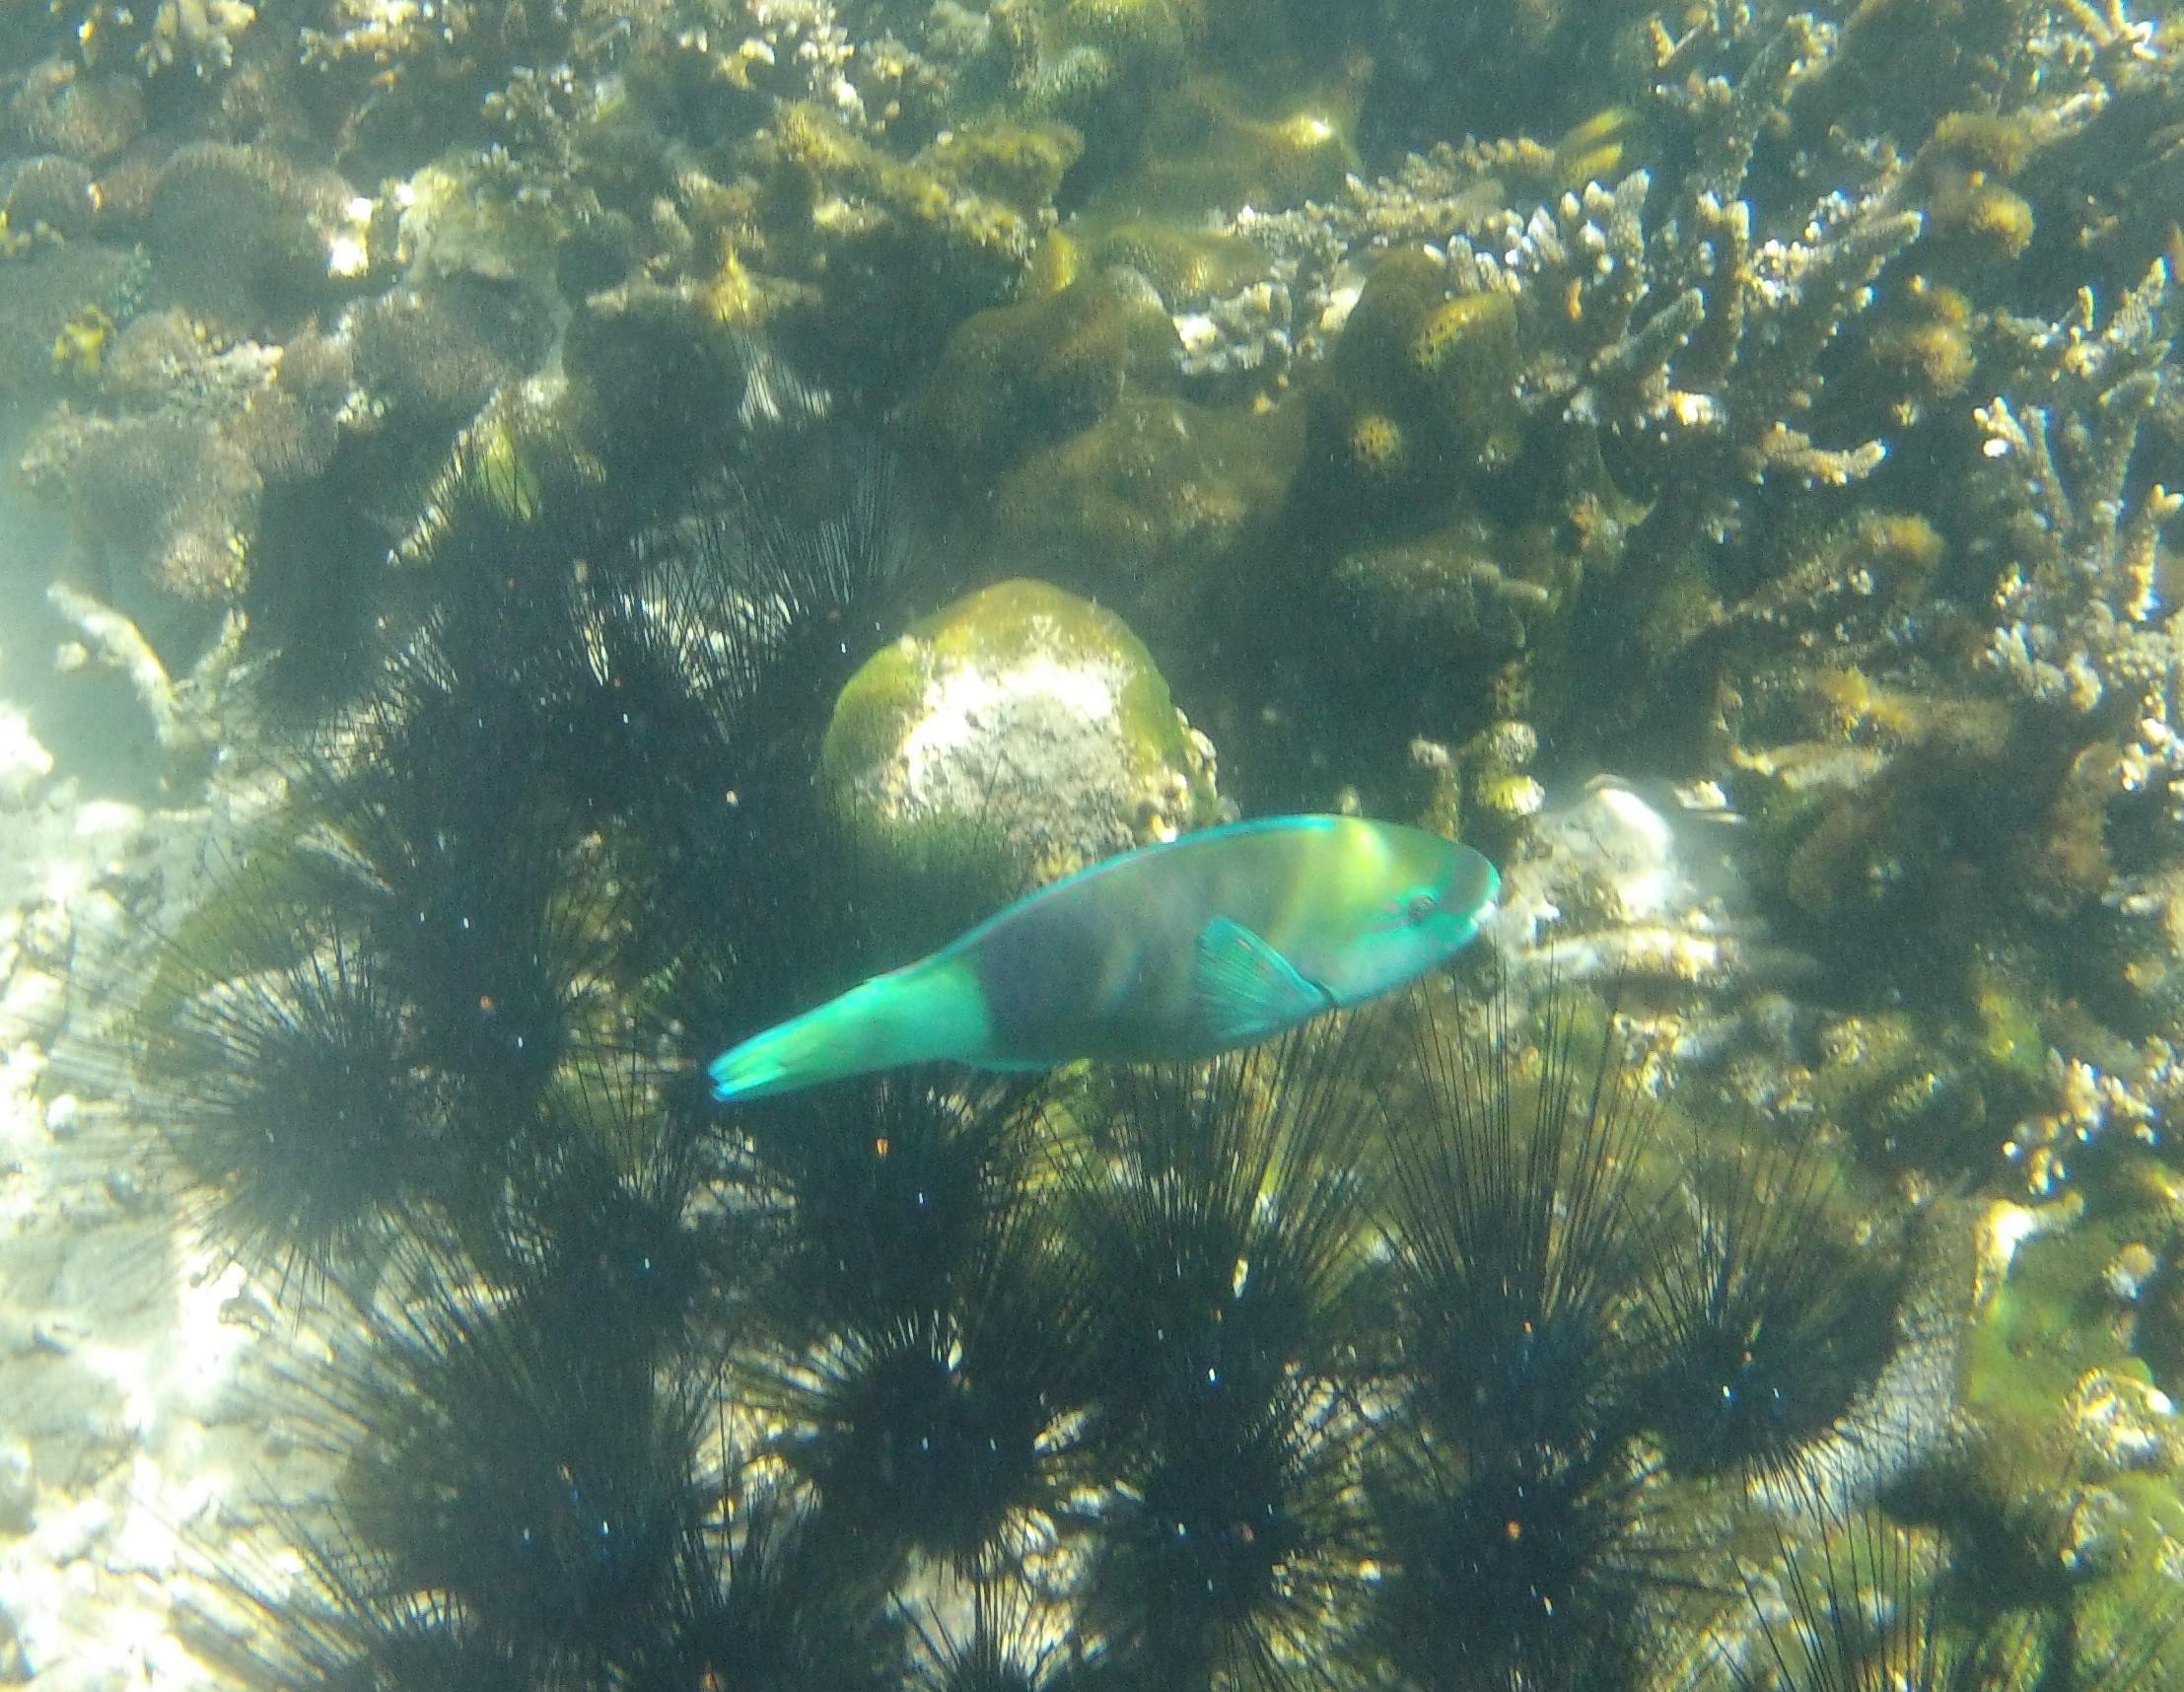Scarus ghobban: (631, 695, 1808, 1194)
